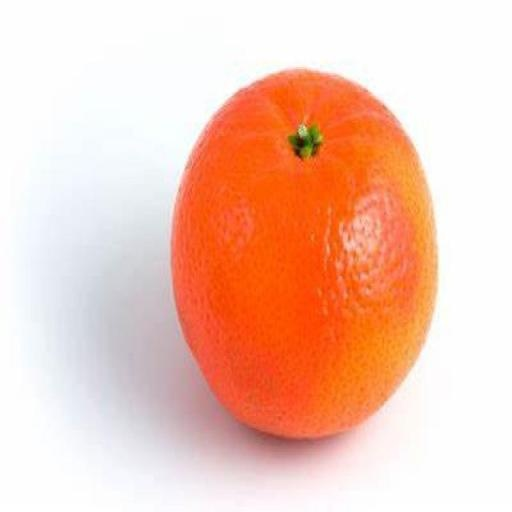fruit: (172, 70, 435, 437)
